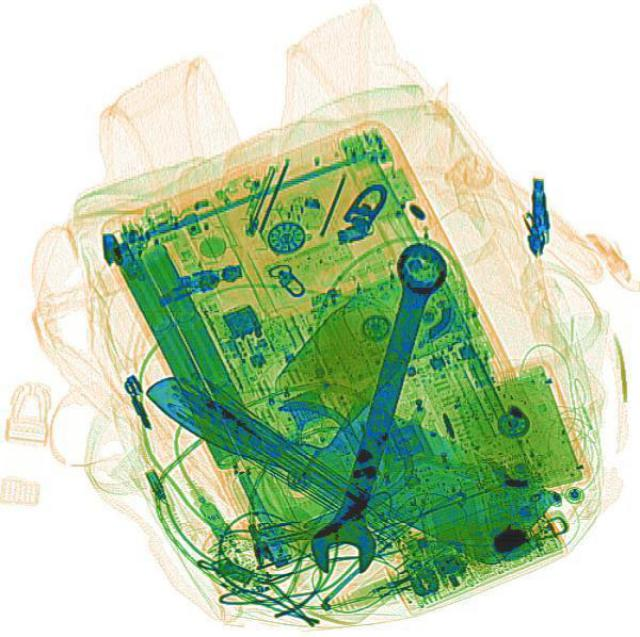Knife: (136, 318, 564, 579)
Wrench: (298, 235, 462, 582)
